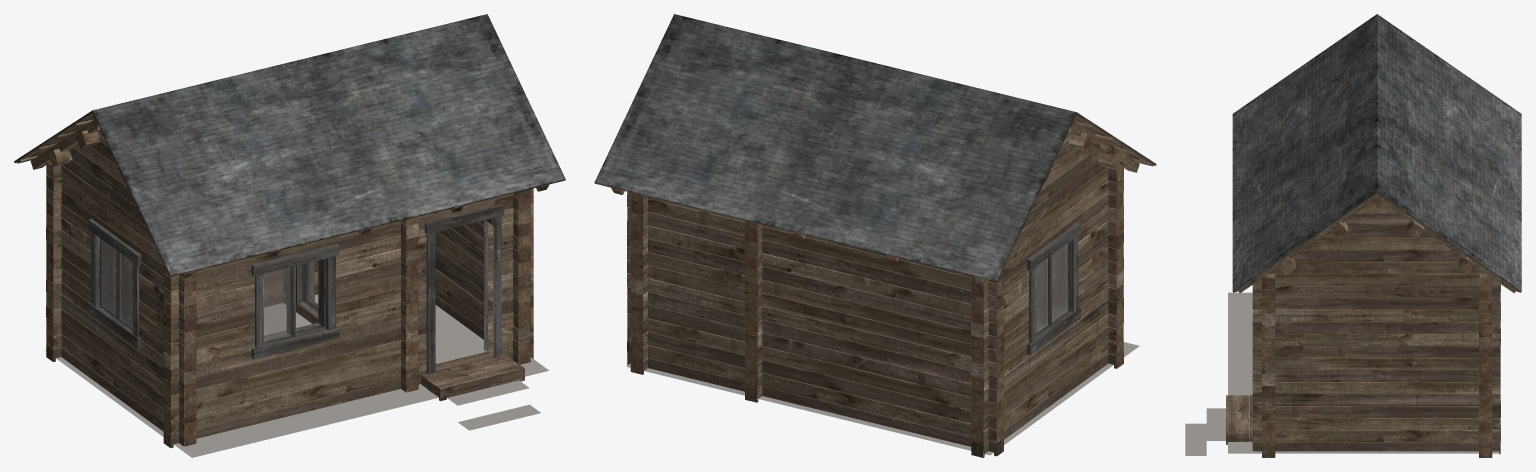
The model's file is log-cabin.access-v8.lod1.glb.
The picture shows the model from 3 angles, left to right: view 1: azimuth 30°, elevation 25°; view 2: azimuth 150°, elevation 25°; view 3: azimuth 270°, elevation 25°; orthographic projection. The views are drawn at different scales.
Parts seen in each view (by area): view 1: Base_Roof_0, Base_Wood1a_0, Base_Wood1b_0, Base_Wood2_0, Base_WoodEnds_0, Walkable floors and stairs (×2), Base_Glass_0; view 2: Base_Roof_0, Base_Wood1a_0, Base_Wood1b_0, Base_WoodEnds_0, Base_Wood2_0, Walkable floors and stairs, Base_Glass_0; view 3: Base_Roof_0, Base_Wood1b_0, Base_Wood1a_0, Base_WoodEnds_0, Walkable floors and stairs (×2).
Boxes of the visible parts, x1,y1,x2,y2 form: Base_Roof_0: [14, 14, 565, 275]; Base_Wood1a_0: [17, 120, 549, 436]; Base_Wood1b_0: [14, 111, 565, 448]; Base_Wood2_0: [88, 204, 504, 373]; Base_WoodEnds_0: [46, 114, 548, 447]; Walkable floors and stairs (×2): [45, 294, 549, 457]; Base_Glass_0: [101, 239, 290, 341]; Base_Roof_0: [594, 14, 1156, 280]; Base_Wood1a_0: [611, 121, 1153, 443]; Base_Wood1b_0: [595, 113, 1156, 457]; Base_WoodEnds_0: [611, 116, 1123, 457]; Base_Wood2_0: [1027, 222, 1080, 355]; Walkable floors and stairs: [626, 342, 1139, 455]; Base_Glass_0: [1036, 243, 1067, 332]; Base_Roof_0: [1232, 14, 1521, 291]; Base_Wood1b_0: [1226, 192, 1520, 457]; Base_Wood1a_0: [1236, 197, 1518, 445]; Base_WoodEnds_0: [1262, 194, 1492, 457]; Walkable floors and stairs (×2): [1185, 292, 1499, 455].
Size of the model in its own units: 6.3 by 4.73 by 5.03.
8 materials, 6 textured.
